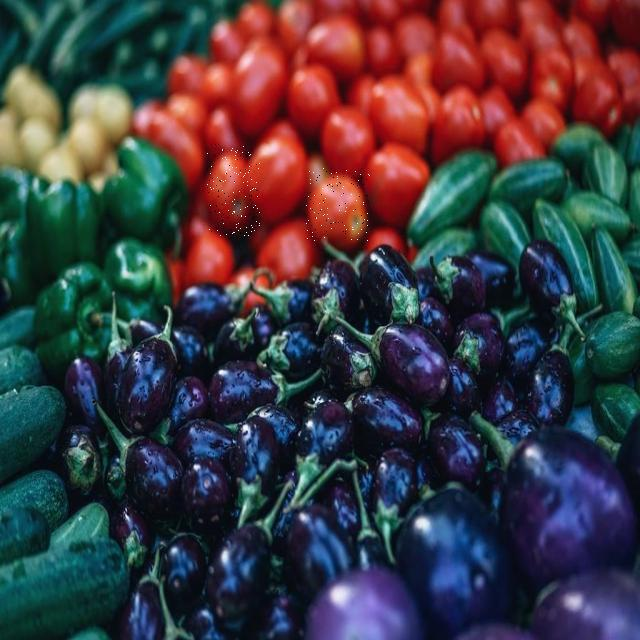Tomato: (207, 144, 260, 236), (306, 168, 370, 241)
